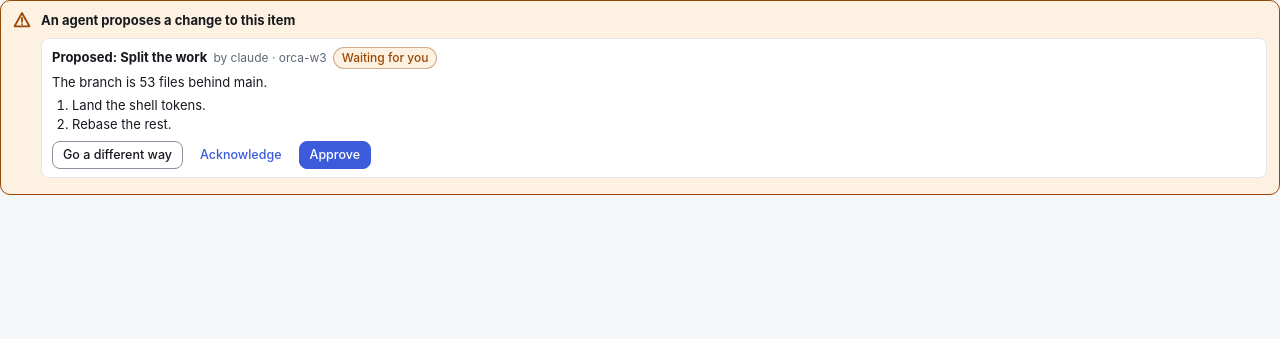
it: the item’s problem banner (decision 37) › Go a different way needs a note
Click the button "Go a different way": (118, 155) [52,141,183,169]
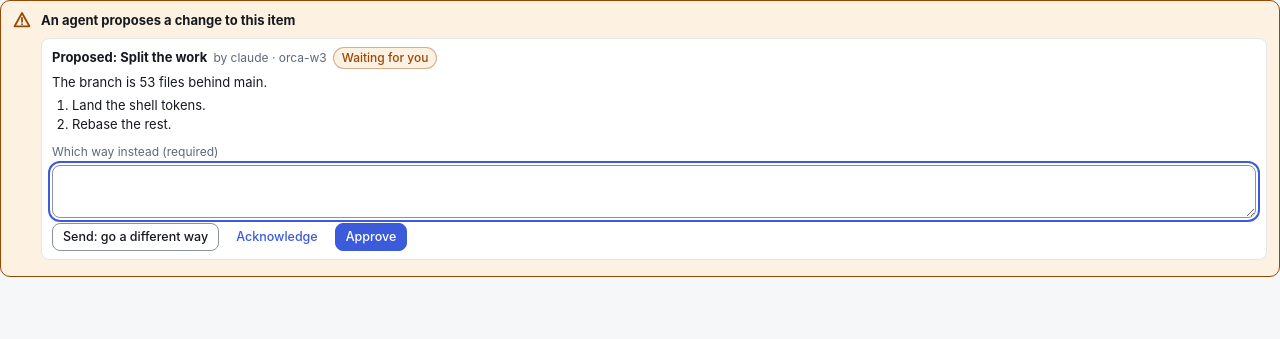
Click the button "Send: go a different way": (136, 237) [52,223,219,251]
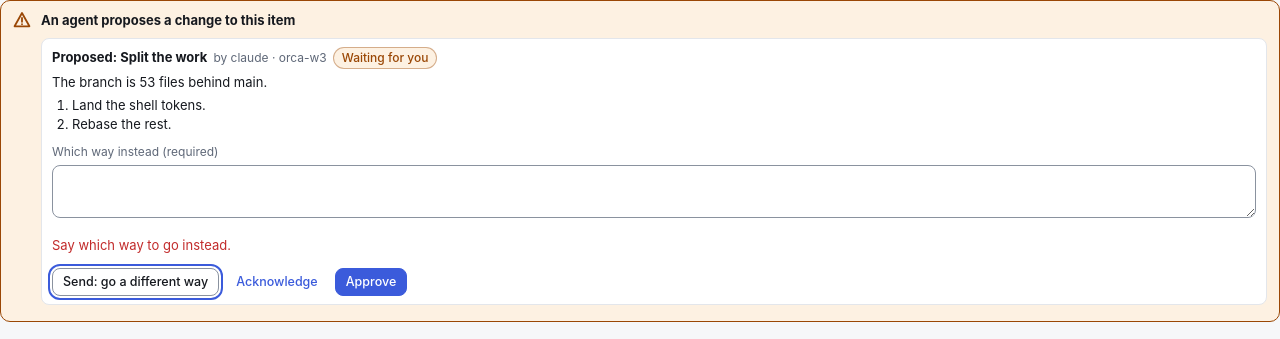
Result: the message reads "Say which way to go instead." at [52,237,231,253]
